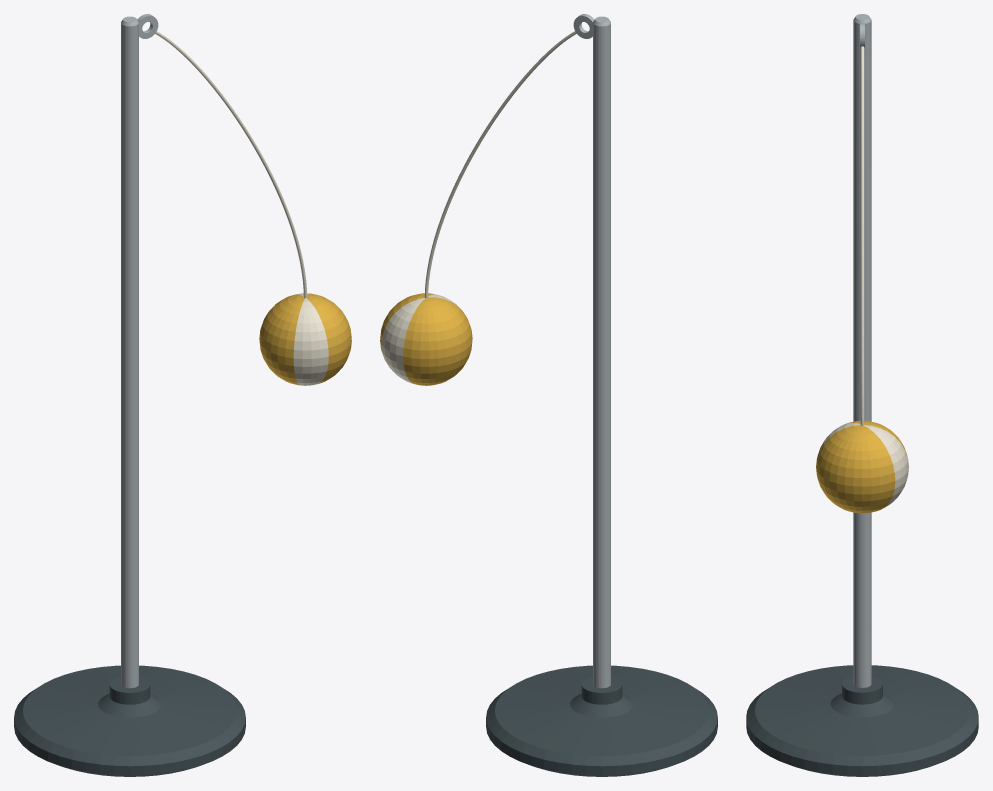
3 renders of one model, left to right at view 1: azimuth 30°, elevation 25°; view 2: azimuth 150°, elevation 25°; view 3: azimuth 270°, elevation 25°, orthographic.
Parts seen in each view (by area): view 1: WholeWideCircularBaseAndRaisedSocket, WholeTallCappedStraightPost, WholeClosedSuspendedBall, WholeContinuousFixedCurvedCord; view 2: WholeWideCircularBaseAndRaisedSocket, WholeTallCappedStraightPost, WholeClosedSuspendedBall, WholeContinuousFixedCurvedCord; view 3: WholeWideCircularBaseAndRaisedSocket, WholeTallCappedStraightPost, WholeClosedSuspendedBall, WholeContinuousFixedCurvedCord.
Part boxes in pixels (box(x1,y1,x2,y2)): WholeWideCircularBaseAndRaisedSocket: box(14, 665, 245, 776); WholeTallCappedStraightPost: box(121, 16, 138, 688); WholeClosedSuspendedBall: box(259, 293, 351, 385); WholeContinuousFixedCurvedCord: box(155, 31, 307, 298); WholeWideCircularBaseAndRaisedSocket: box(486, 665, 717, 776); WholeTallCappedStraightPost: box(593, 16, 610, 688); WholeClosedSuspendedBall: box(380, 293, 472, 385); WholeContinuousFixedCurvedCord: box(424, 31, 576, 298); WholeWideCircularBaseAndRaisedSocket: box(746, 665, 978, 776); WholeTallCappedStraightPost: box(853, 14, 871, 687); WholeClosedSuspendedBall: box(816, 420, 908, 513); WholeContinuousFixedCurvedCord: box(860, 46, 864, 425).
Size of the model in its own units: 1.26 by 2.71 by 0.8.
